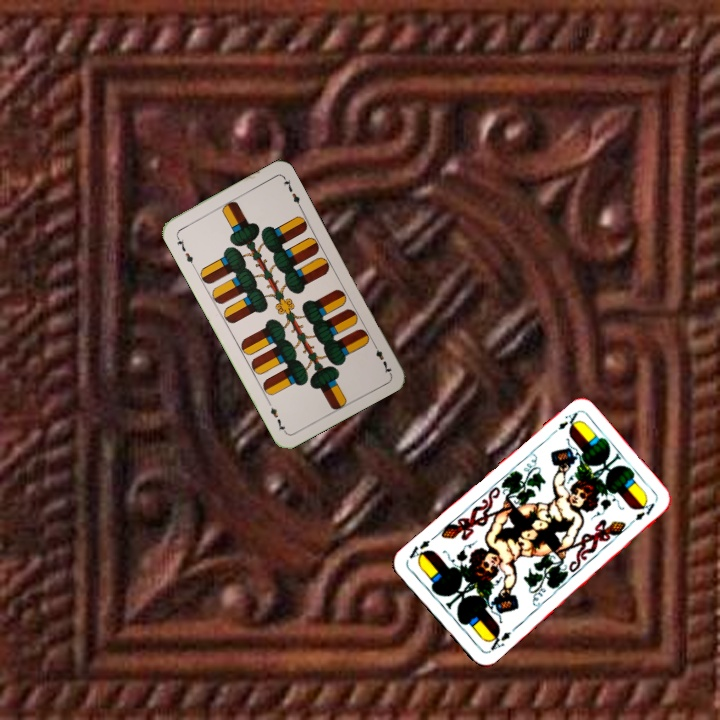E7: (369, 339, 394, 376), (172, 232, 196, 269)
EA: (546, 408, 582, 439), (483, 627, 514, 655)
